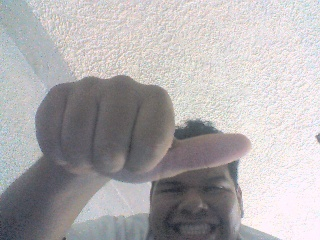Izquierda: (27, 73, 257, 187)
